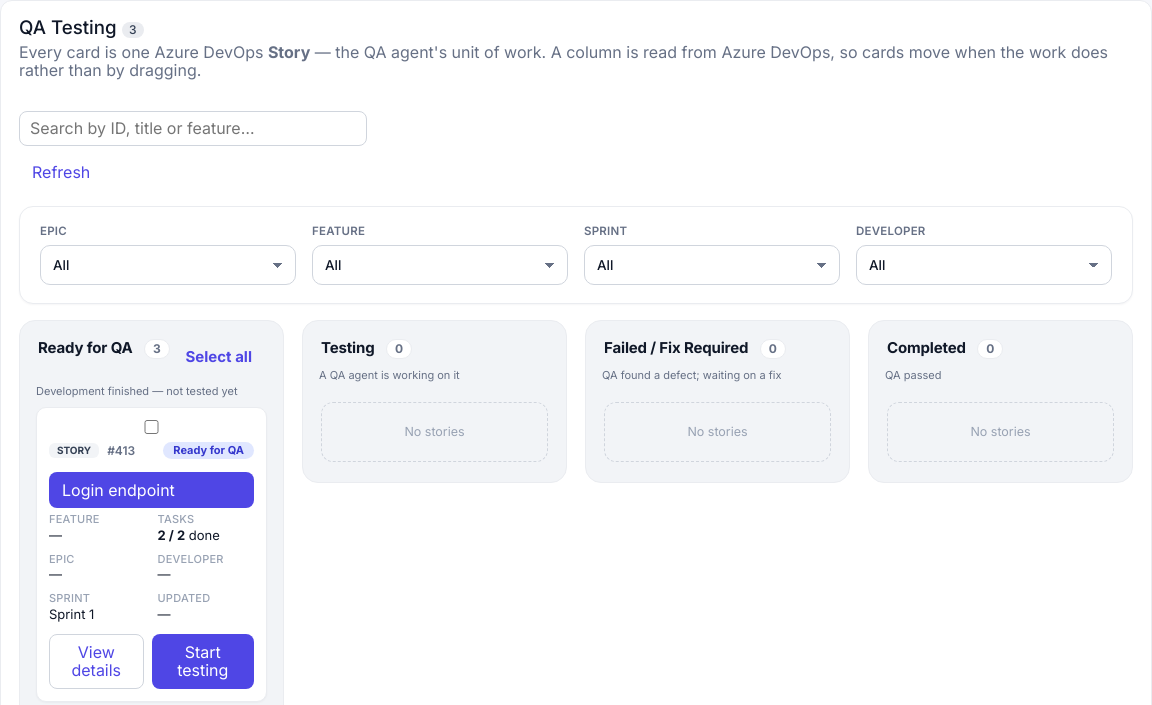
Scenario: QaBoardView batch selection › selects every startable Story in a column at once
Click the button "Select all" at (219,357), box [172,339,265,375]
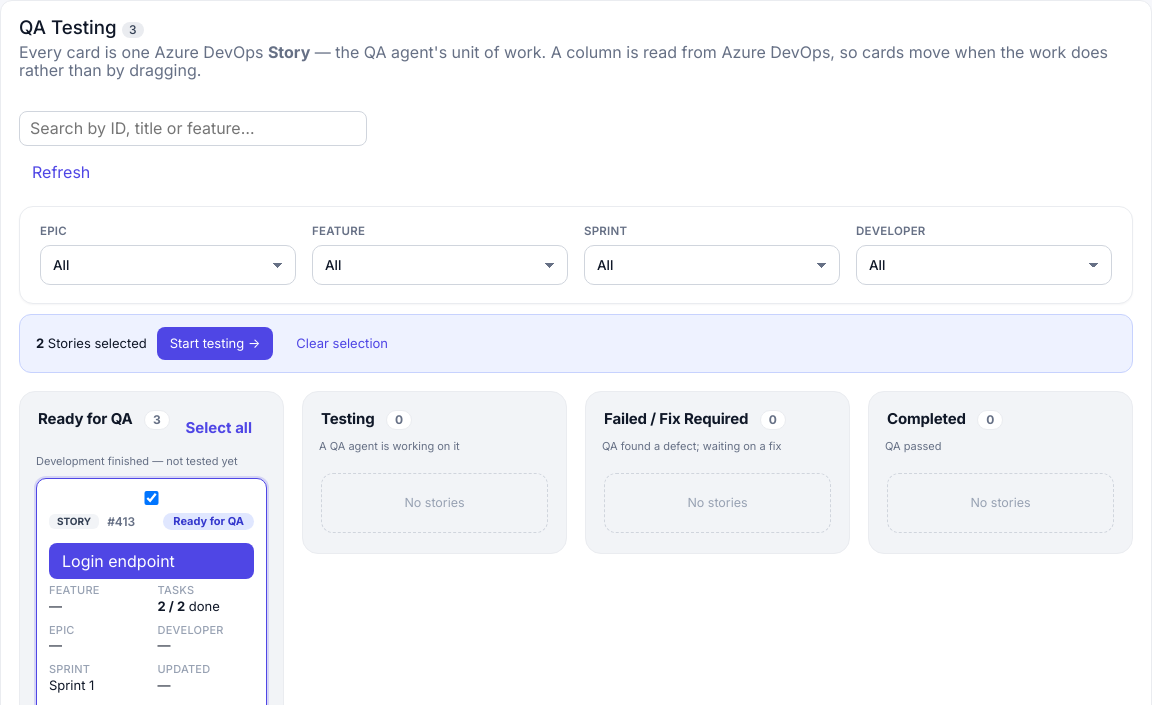
Check: the element named "Bulk QA actions" shows "2", box [36,335,44,351]
Check: the element named "Bulk QA actions" shows "Stories selected", box [19,314,1133,373]
